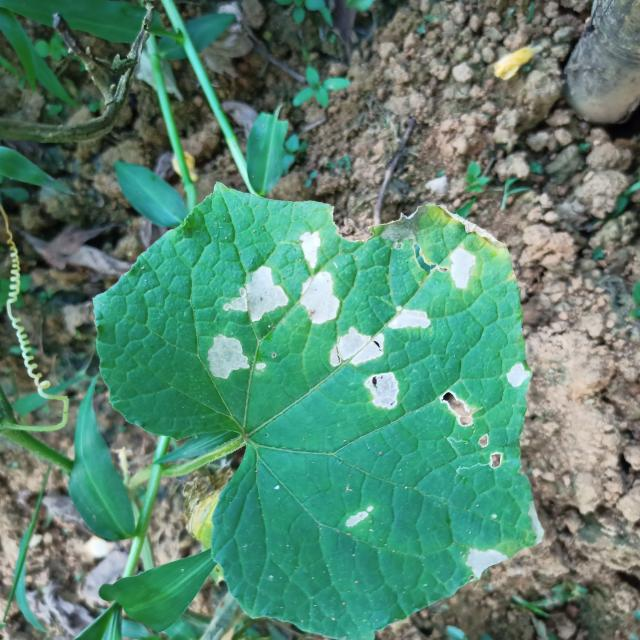disease_cucumber: (329, 327, 399, 409), (441, 390, 506, 472), (296, 231, 342, 324), (223, 265, 290, 325), (207, 333, 267, 380), (464, 544, 507, 576), (448, 247, 478, 291), (386, 305, 432, 333), (345, 505, 374, 530), (505, 363, 529, 388)
